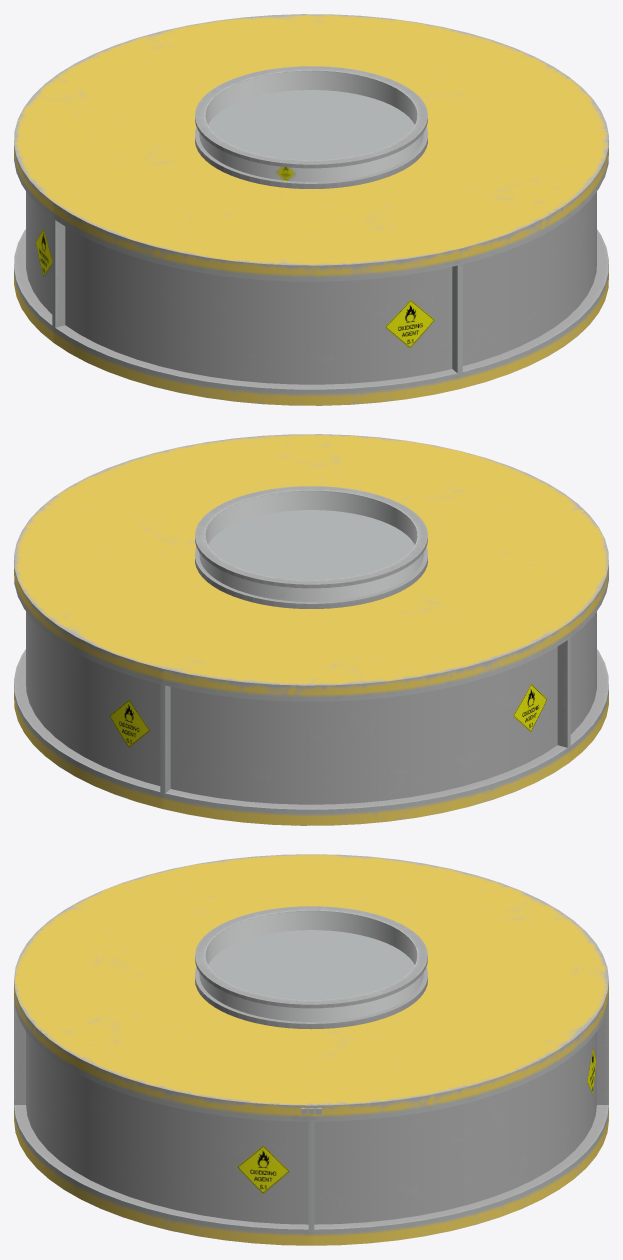
3 renders of one model, top to bottom at view 1: azimuth 30°, elevation 25°; view 2: azimuth 150°, elevation 25°; view 3: azimuth 270°, elevation 25°, orthographic.
Visible parts, largest first — view 1: probe; view 2: probe; view 3: probe.
Boxes of the visible parts, bbox=[...] form: probe: bbox=[14, 14, 608, 405]; probe: bbox=[14, 434, 608, 825]; probe: bbox=[14, 854, 608, 1245].
Bounding box in the file's own units: 5.02 × 1.53 × 5.
